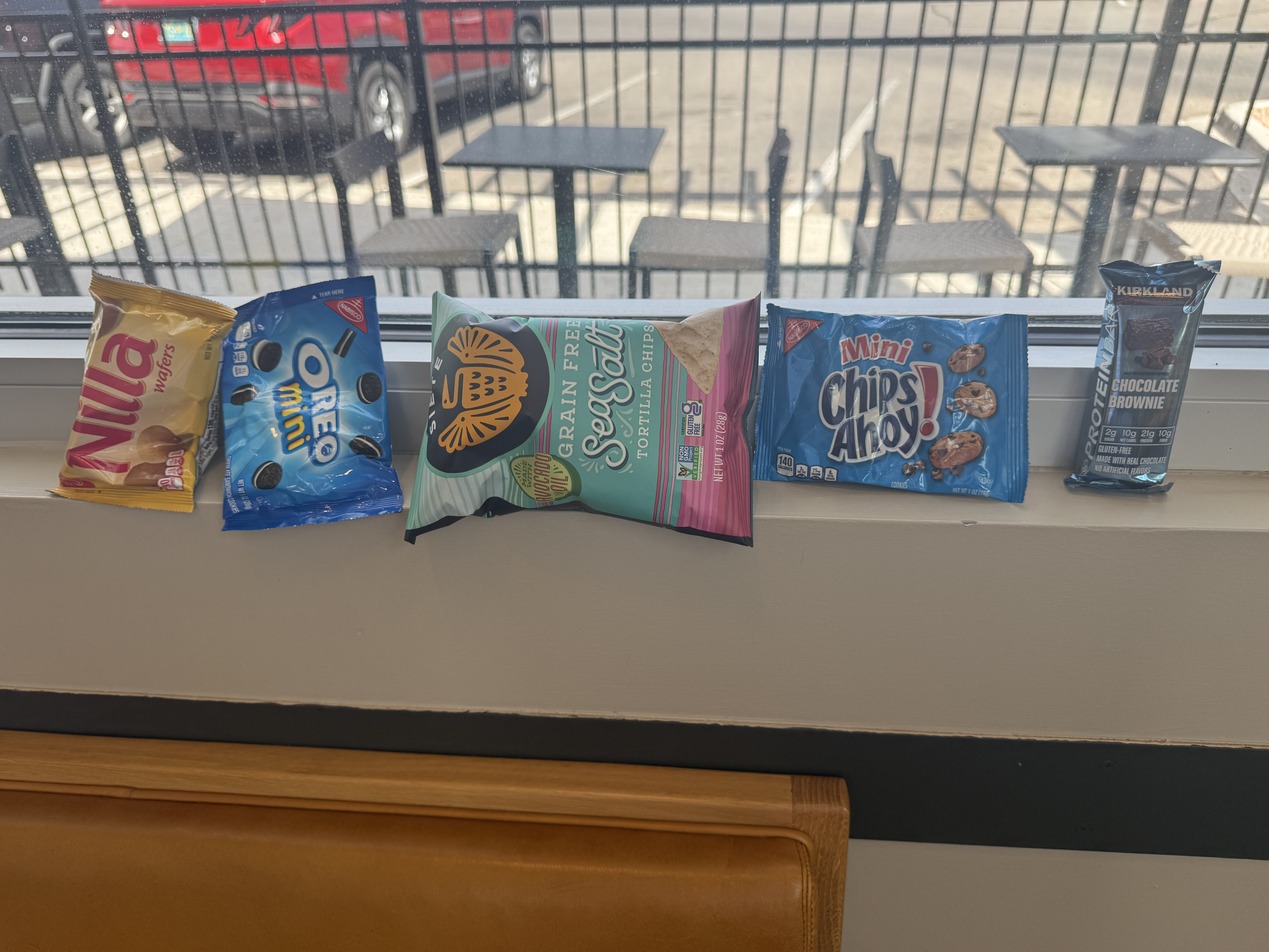chips_ahoy: (766, 308, 1020, 505)
chocolate_brownie: (1118, 245, 1209, 490), (1144, 148, 1184, 158)
nilla: (97, 266, 228, 498)
oreo_mini: (197, 322, 383, 533)
sea_salt: (424, 291, 750, 534)
